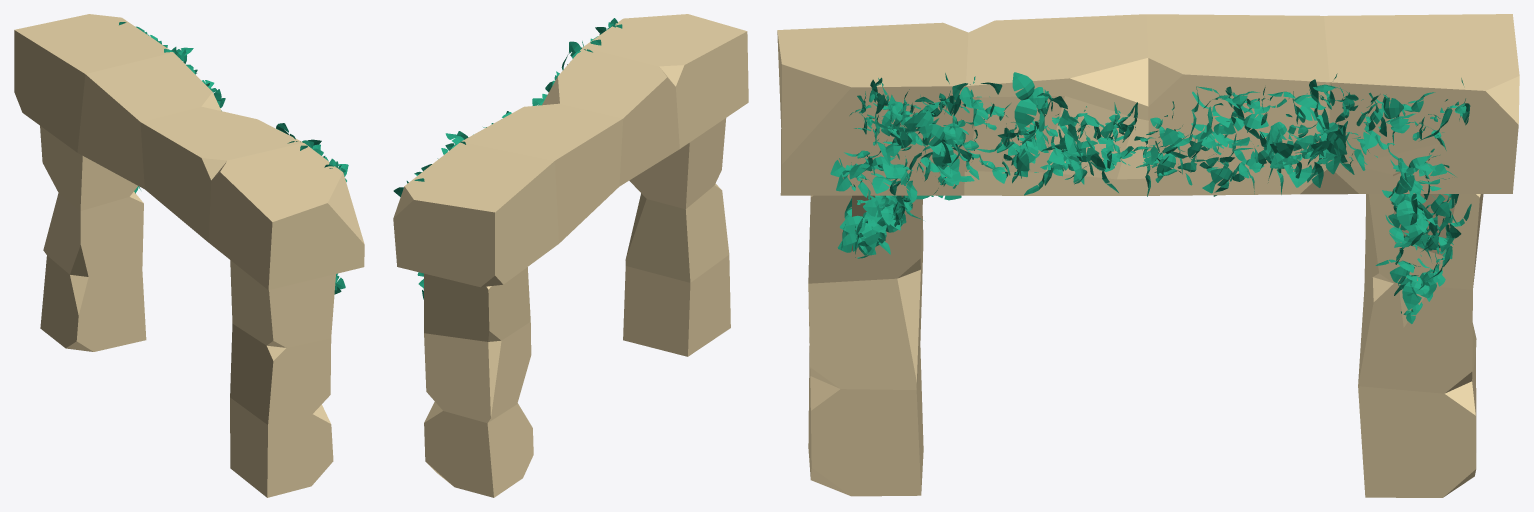
The model's file is dolmen.fbx.
3 views of the same model, side by side, from view 1: azimuth 30°, elevation 25°; view 2: azimuth 150°, elevation 25°; view 3: azimuth 270°, elevation 25° (orthographic). The views are drawn at different scales.
Parts seen in each view (by area): view 1: SupportedPillar, SupportPillar, SupportPillar.001; view 2: SupportedPillar, SupportPillar.001, SupportPillar; view 3: SupportedPillar, SupportPillar, SupportPillar.001, Vines, Vines|LeafPart|Dupli|44.
Part boxes in pixels (box(x1,y1,x2,y2)): SupportedPillar: box(14, 14, 364, 290); SupportPillar: box(230, 260, 335, 497); SupportPillar.001: box(40, 126, 146, 351); SupportedPillar: box(393, 14, 748, 287); SupportPillar.001: box(424, 267, 533, 497); SupportPillar: box(623, 118, 730, 356); SupportedPillar: box(777, 14, 1519, 195); SupportPillar: box(808, 195, 923, 496); SupportPillar.001: box(1358, 194, 1483, 497); Vines: box(851, 91, 1455, 327); Vines|LeafPart|Dupli|44: box(1012, 72, 1048, 129).
Bounding box in the file's own units: 0.7597 × 1.85 × 2.84.
